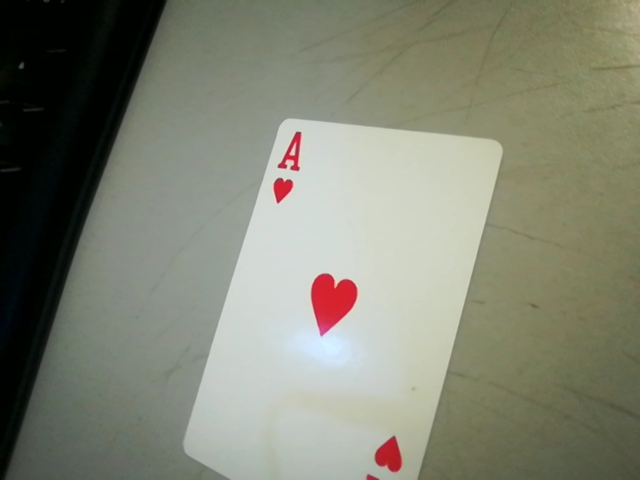hx a: (258, 125, 317, 210)
